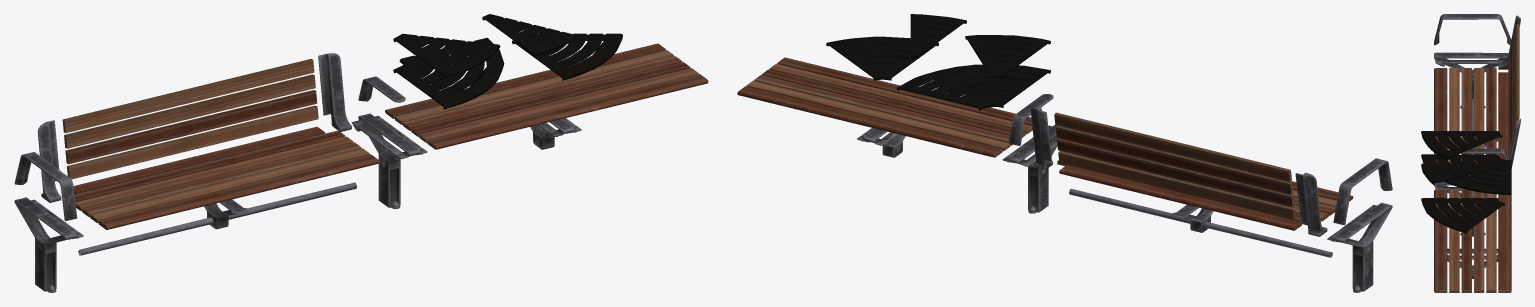
The model's file is modular_street_seating.glb.
3 renders of one model, left to right at view 1: azimuth 30°, elevation 25°; view 2: azimuth 150°, elevation 25°; view 3: azimuth 270°, elevation 25°, orthographic. The views are drawn at different scales.
Parts seen in each view (by area): view 1: seat_back, seat, seat_bench, connector_90, legs_double, connector_45, legs_single, connector_60, crossbar, connector_30, back_support_l, arm_rest_01 (+4 smaller); view 2: seat_bench, seat_back, connector_90, seat, connector_60, legs_single, connector_45, legs_double, crossbar, connector_30, arm_rest_01, back_support_r (+4 smaller); view 3: seat_bench, seat, connector_90, connector_60, connector_45, seat_back, connector_30, legs_single, arm_rest_01, arm_rest_02, back_support_r, legs_double (+3 smaller).
Part boxes in pixels (x1=…): seat_back: x1=62, y1=59, x2=318, y2=179; seat: x1=73, y1=126, x2=379, y2=229; seat_bench: x1=385, y1=43, x2=708, y2=149; connector_90: x1=393, y1=37, x2=504, y2=109; legs_double: x1=351, y1=113, x2=427, y2=208; connector_45: x1=393, y1=33, x2=500, y2=78; legs_single: x1=14, y1=197, x2=83, y2=292; connector_60: x1=512, y1=33, x2=622, y2=80; crossbar: x1=78, y1=182, x2=357, y2=255; connector_30: x1=482, y1=14, x2=577, y2=56; back_support_l: x1=318, y1=53, x2=351, y2=131; arm_rest_01: x1=14, y1=152, x2=77, y2=221; seat_bench: x1=737, y1=57, x2=1032, y2=157; seat_back: x1=1054, y1=112, x2=1295, y2=220; connector_90: x1=896, y1=64, x2=1050, y2=110; seat: x1=1057, y1=160, x2=1353, y2=230; connector_60: x1=826, y1=36, x2=938, y2=80; legs_single: x1=1327, y1=202, x2=1392, y2=292; connector_45: x1=965, y1=35, x2=1050, y2=78; legs_double: x1=1002, y1=125, x2=1058, y2=213; crossbar: x1=1069, y1=188, x2=1332, y2=257; connector_30: x1=910, y1=14, x2=966, y2=57; arm_rest_01: x1=1333, y1=158, x2=1392, y2=225; back_support_r: x1=1295, y1=172, x2=1327, y2=236; seat_bench: x1=1434, y1=189, x2=1511, y2=292; seat: x1=1434, y1=68, x2=1508, y2=163; connector_90: x1=1421, y1=154, x2=1511, y2=194; connector_60: x1=1421, y1=198, x2=1505, y2=233; connector_45: x1=1421, y1=131, x2=1502, y2=160; seat_back: x1=1508, y1=24, x2=1519, y2=157; connector_30: x1=1421, y1=163, x2=1500, y2=185; legs_single: x1=1434, y1=52, x2=1508, y2=108; arm_rest_01: x1=1434, y1=14, x2=1511, y2=45; arm_rest_02: x1=1461, y1=148, x2=1508, y2=159; back_support_r: x1=1498, y1=15, x2=1520, y2=69; legs_double: x1=1434, y1=181, x2=1486, y2=236.
Size of the model in its own units: 4.34 by 0.95 by 0.7704.
4 materials, 4 textured.
